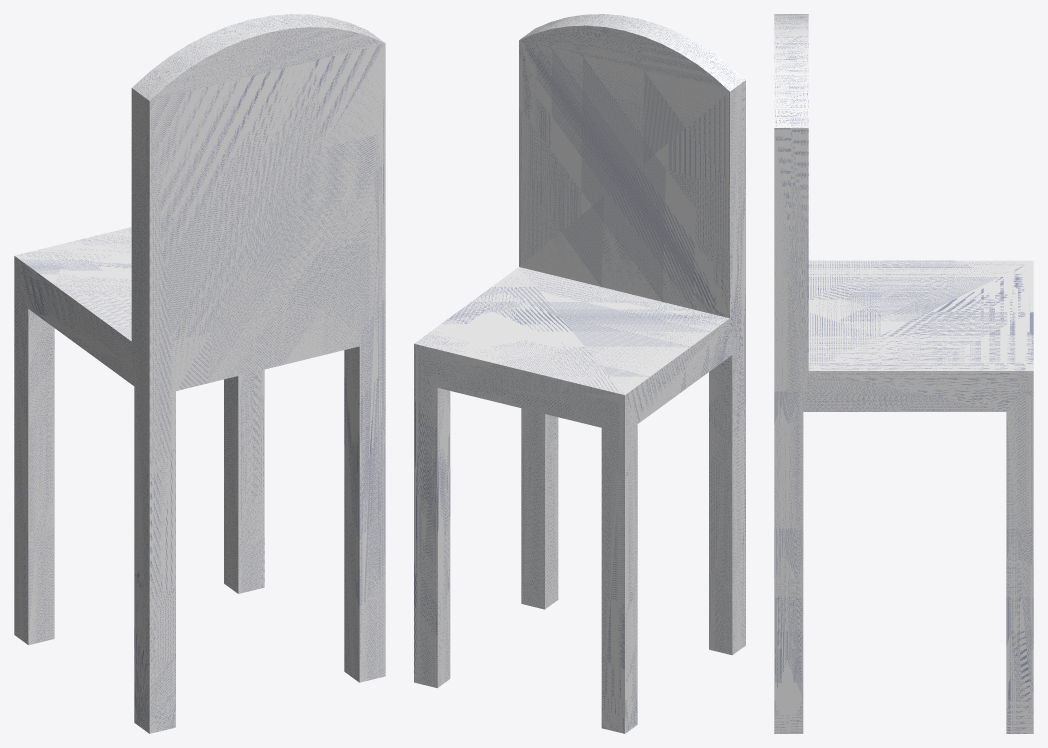
The picture shows the model from 3 angles, left to right: view 1: azimuth 30°, elevation 25°; view 2: azimuth 150°, elevation 25°; view 3: azimuth 270°, elevation 25°; orthographic projection. The views are drawn at different scales.
Parts seen in each view (by area): view 1: SketchUp_ID2; view 2: SketchUp_ID2; view 3: SketchUp_ID2.
Part boxes in pixels (x1,y1,x2,y2): SketchUp_ID2: (14, 14, 385, 733); SketchUp_ID2: (414, 14, 745, 733); SketchUp_ID2: (774, 14, 1033, 733).
Size of the model in its own units: 0.3263 by 0.888 by 0.3241.
